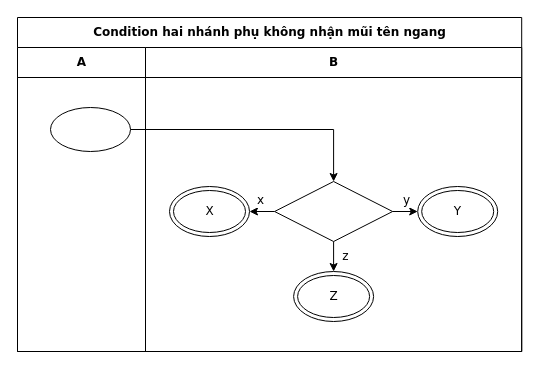
Some shapes in this 540 by 369 pixel diagram are drawn without their labels. The shapes that lost their labels are listed below. From the top down, each one's centre as x and y in pixels, then its label:
point 90,129: Vào
point 333,211: Ba hướng?
